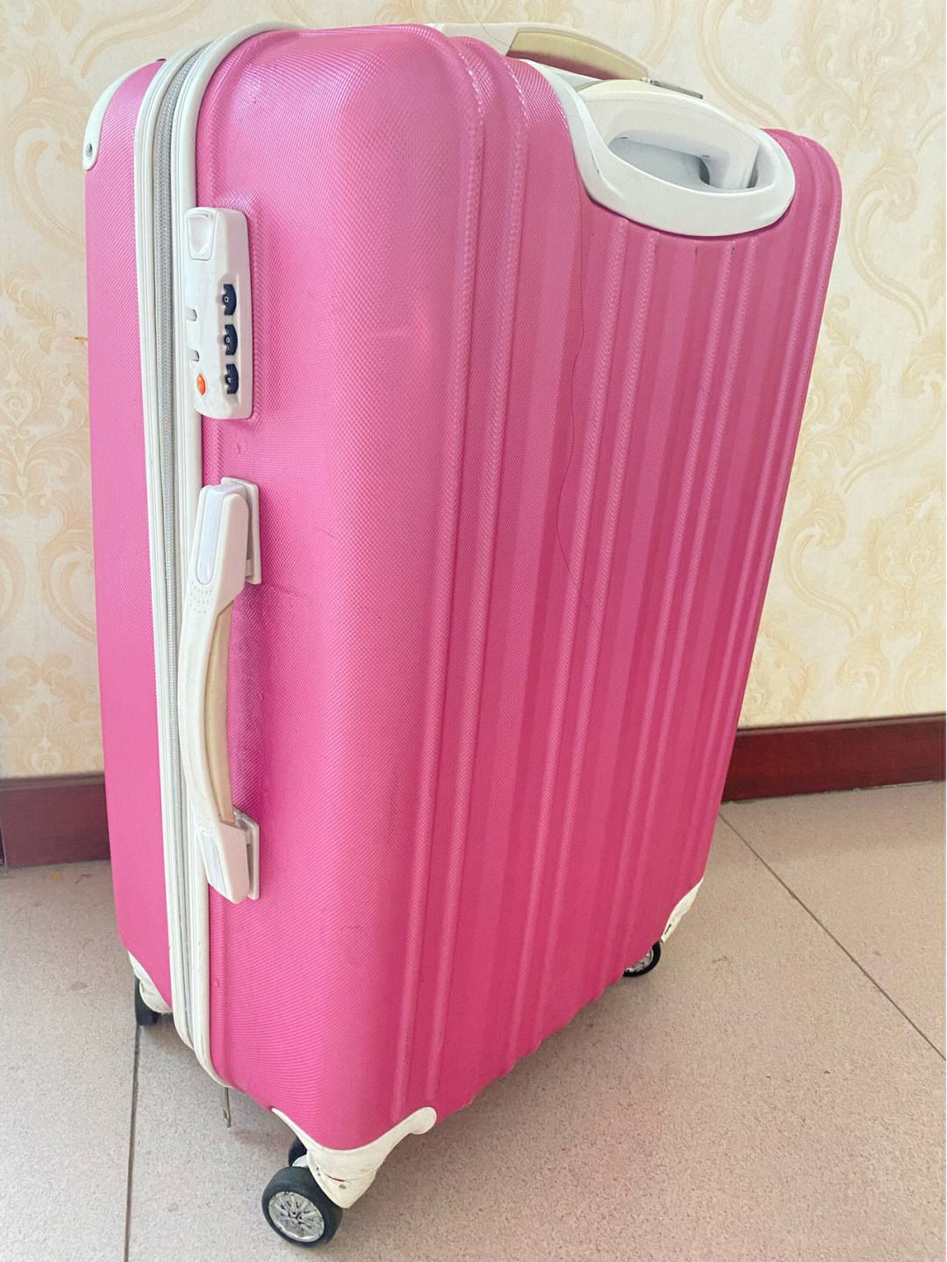box: (88, 25, 844, 1144)
handle: (180, 474, 262, 904)
lock: (177, 205, 251, 420)
wheel: (262, 1134, 345, 1248)
